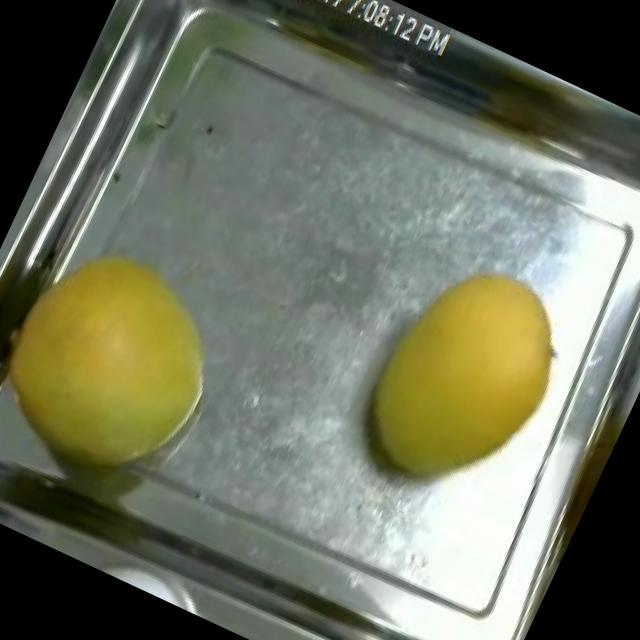fruit: (0, 207, 261, 533), (328, 229, 598, 534)
